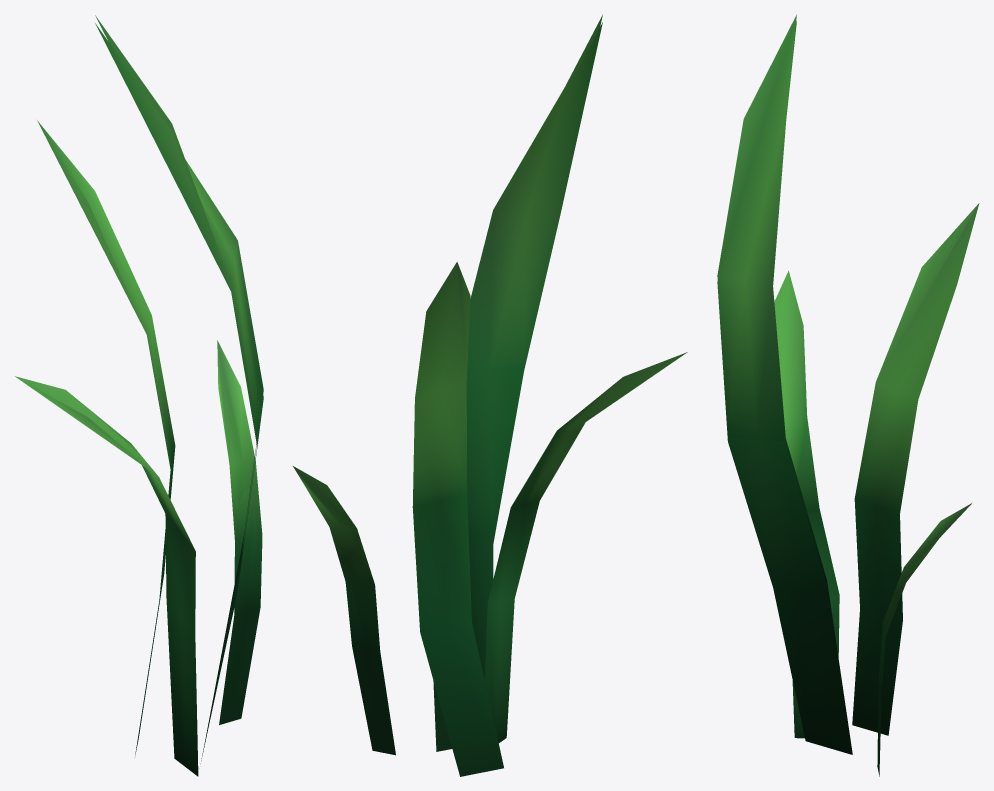
Rendered from Hojas.FBX.
The picture shows the model from 3 angles, left to right: view 1: azimuth 30°, elevation 25°; view 2: azimuth 150°, elevation 25°; view 3: azimuth 270°, elevation 25°; orthographic projection. The views are drawn at different scales.
Parts seen in each view (by area): view 1: Hierbas001; view 2: Hierbas001; view 3: Hierbas001.
Part boxes in pixels (x1,y1,x2,y2): Hierbas001: (15, 15, 263, 776); Hierbas001: (293, 14, 687, 776); Hierbas001: (717, 14, 979, 776).
Bounding box in the file's own units: 26.49 × 63.19 × 22.06.
